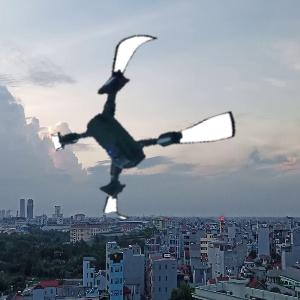drone: (53, 35, 235, 217)
